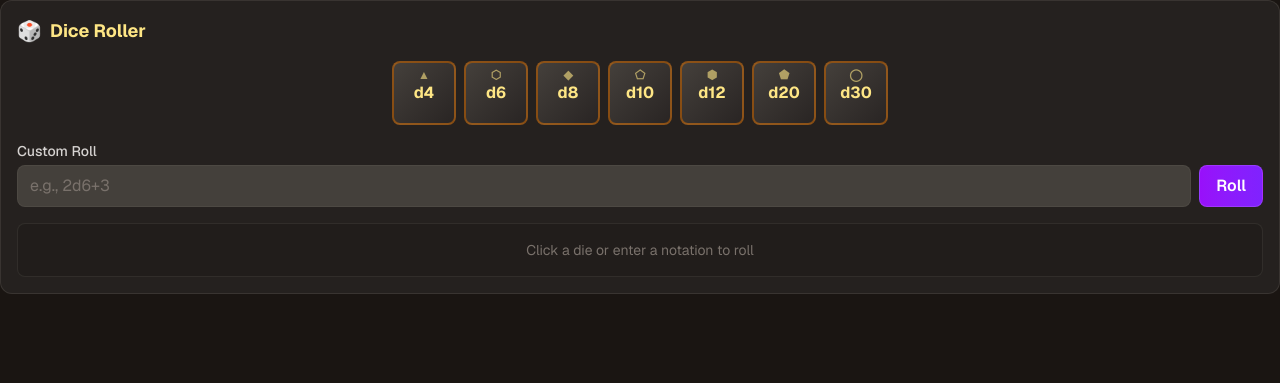
DiceRoller › quick dice rolls › should display result when clicking a die
The image size is (1280, 383).
Click the button named "roll d20".
click(784, 93)  # box [752,61,816,125]
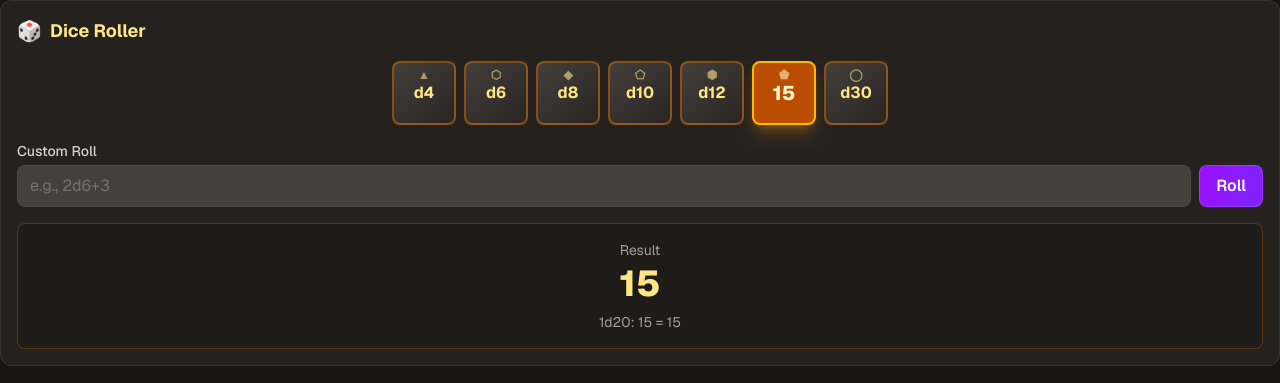
Expected: the text "Result" is shown, [620,241,660,259]
